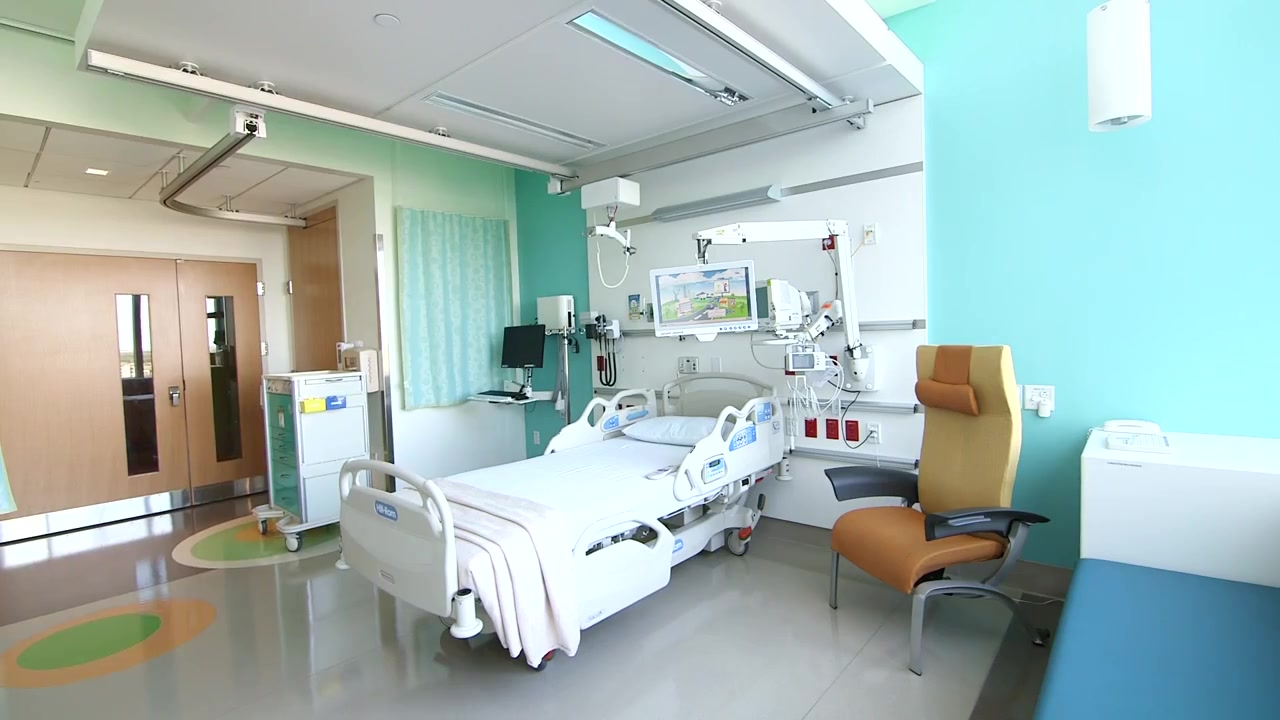bedrail: (548, 512, 675, 633), (672, 395, 785, 504), (544, 388, 659, 458)
bedside_monitor: (650, 260, 758, 338), (752, 280, 808, 340)
chair: (822, 344, 1051, 676)
computer: (500, 323, 546, 369)
curtain: (391, 207, 524, 405)
door_handle: (164, 382, 184, 408)
foot_board: (336, 459, 485, 641)
handle: (280, 495, 292, 504), (279, 472, 290, 481), (277, 443, 287, 450), (278, 455, 288, 462), (276, 432, 287, 438)
hospital_bed: (335, 371, 792, 668)
keyboard: (475, 389, 520, 399)
medical_drawer: (252, 370, 372, 554)
sofa: (1033, 425, 1280, 720)
telephone: (1100, 419, 1171, 458)
